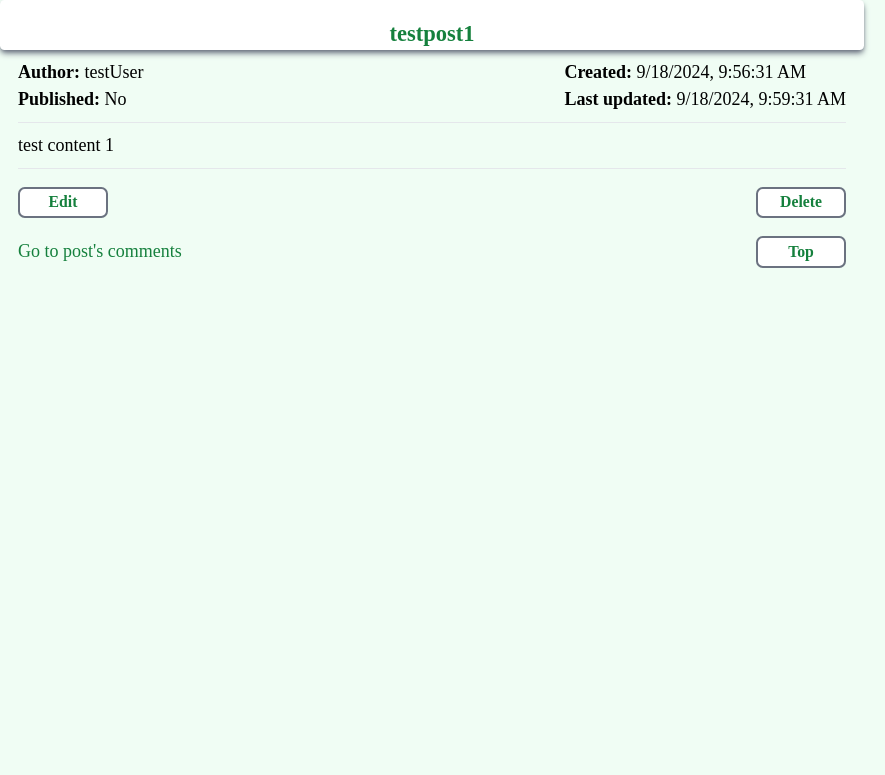
Test case: postDetail tests › logged user matches post author › comments page navigation
The image size is (885, 775).
Click the link "Go to post's comments". click: (100, 252)
box: x1=18 y1=238 x2=182 y2=265
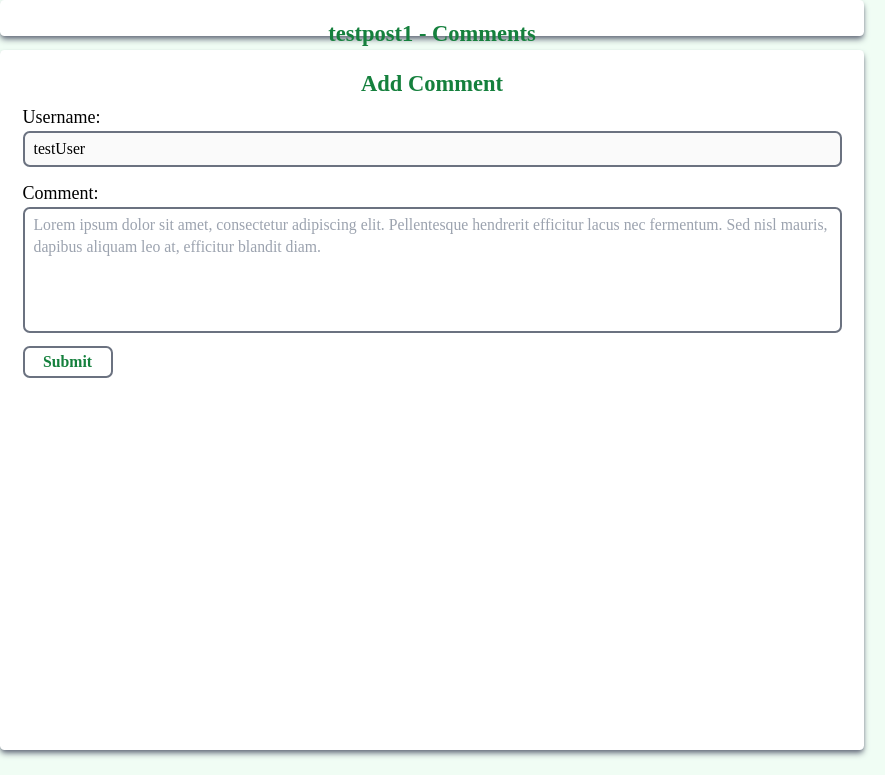
Now the heading "testpost1 - Comments" is shown, box x1=328 y1=21 x2=536 y2=46
